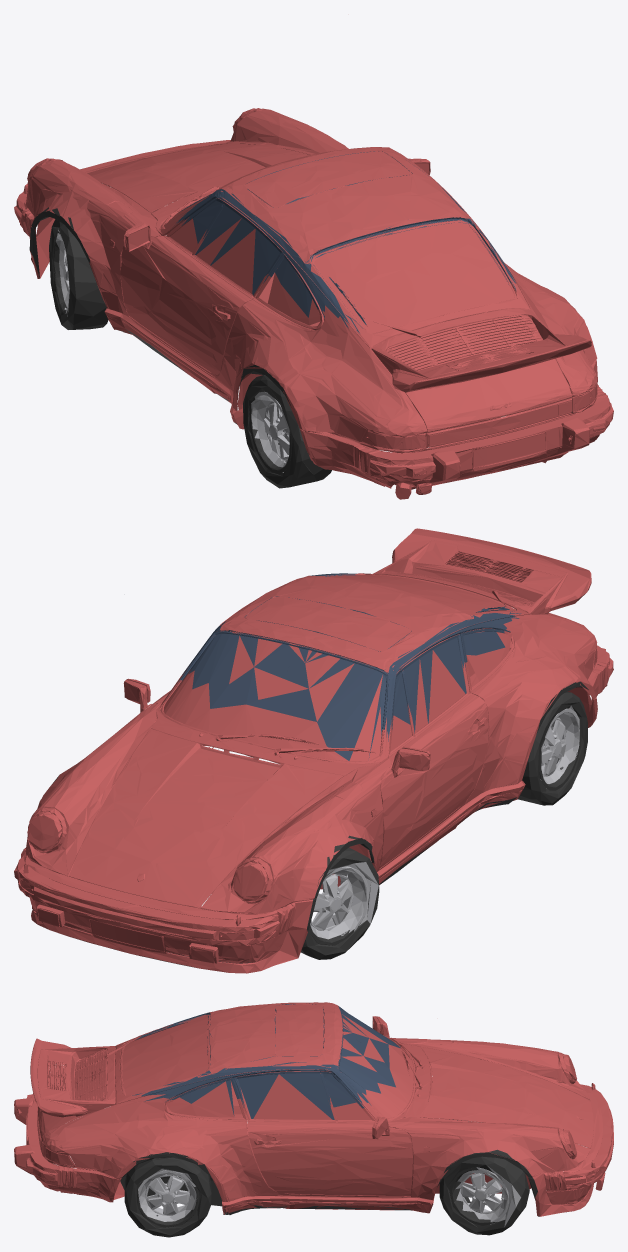
The model's file is vektor.glb.
The picture shows the model from 3 angles, top to bottom: view 1: azimuth 30°, elevation 25°; view 2: azimuth 150°, elevation 25°; view 3: azimuth 270°, elevation 25°; orthographic projection. The views are drawn at different scales.
Parts seen in each view (by area): view 1: paint, glass, tyre, rim; view 2: paint, glass, tyre, rim; view 3: paint, glass, tyre, rim, dark.
Boxes of the visible parts, x1,y1,x2,y2 form: paint: (14,108,613,499); glass: (174,151,516,333); tyre: (29,207,572,488); rim: (56,229,289,467); paint: (14,528,613,973); glass: (167,573,521,760); tyre: (52,681,588,959); rim: (310,705,579,939); paint: (14,1002,613,1216); glass: (132,1003,400,1119); tyre: (120,1119,537,1237); rim: (138,1121,520,1226); dark: (223,1200,580,1216).
Bounding box in the file's own units: 2.68 × 2.31 × 6.01.
